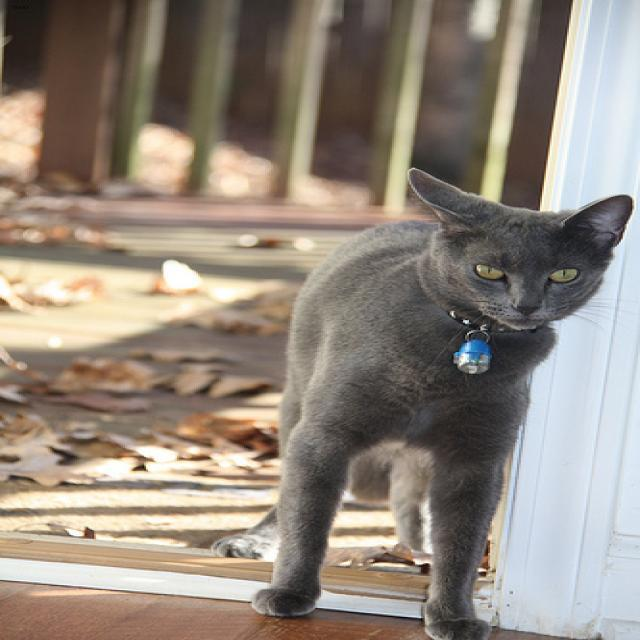Russian_Blue: (406, 167, 631, 327)
